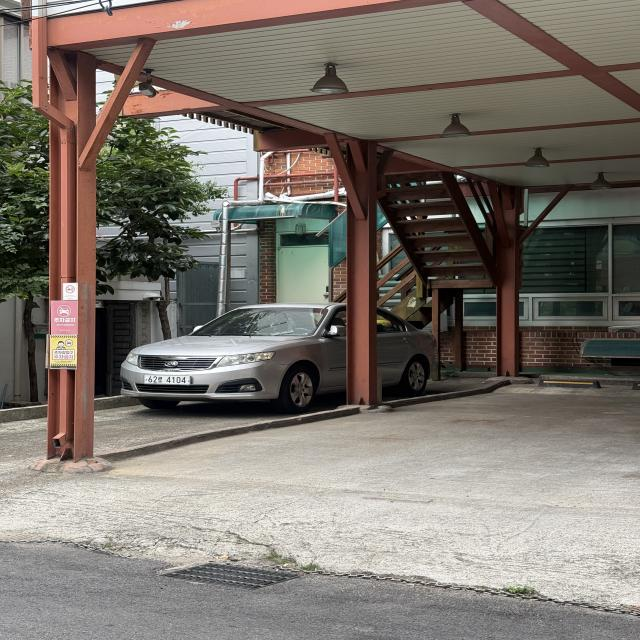car: (106, 278, 491, 436)
